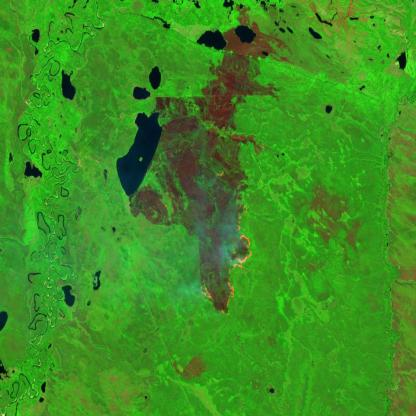fire: (218, 203, 253, 318)
